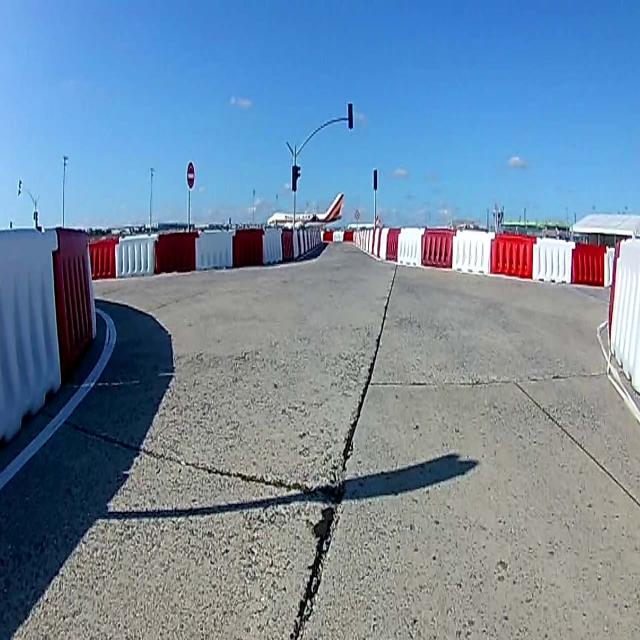girisyok: (186, 161, 196, 187)
